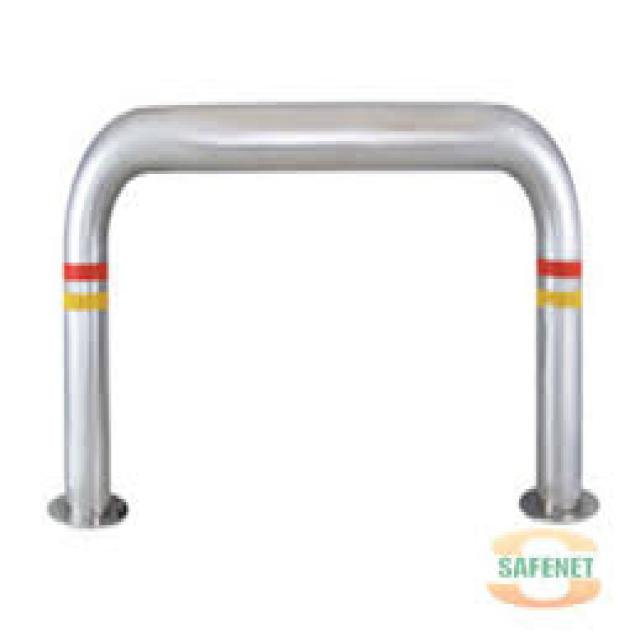bollard: (35, 48, 610, 526)
